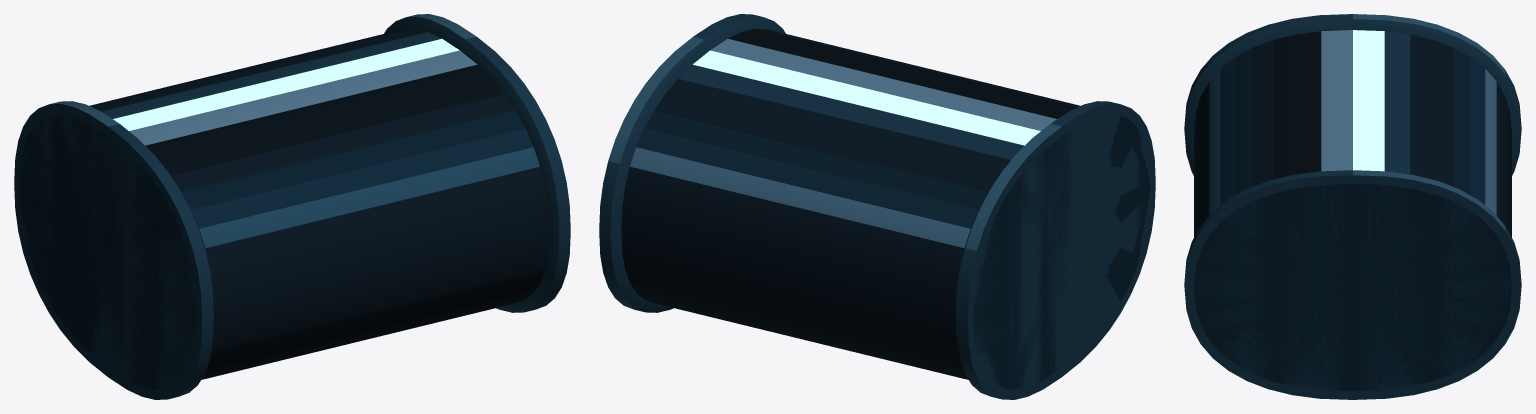
The model's file is maze_pipe.glb.
3 renders of one model, left to right at view 1: azimuth 30°, elevation 25°; view 2: azimuth 150°, elevation 25°; view 3: azimuth 270°, elevation 25°, orthographic. The views are drawn at different scales.
Visible parts, largest first — view 1: plain, end_l, collar-24.0, collar0.0; view 2: plain, collar-24.0, end_l, collar0.0; view 3: cage_pipe, plain, collar0.0, collar-24.0.
Part boxes in pixels (<box>): plain: <box>21,28,548,386</box>; end_l: <box>19,114,196,389</box>; collar-24.0: <box>14,101,214,399</box>; collar0.0: <box>384,14,570,312</box>; plain: <box>621,28,1146,386</box>; collar-24.0: <box>955,101,1155,399</box>; end_l: <box>973,116,1150,389</box>; collar0.0: <box>599,14,785,312</box>; cage_pipe: <box>1194,184,1511,391</box>; plain: <box>1194,30,1511,389</box>; collar0.0: <box>1184,170,1521,399</box>; collar-24.0: <box>1184,14,1521,175</box>.
Size of the model in its own units: 24 by 15.6 by 21.2.
